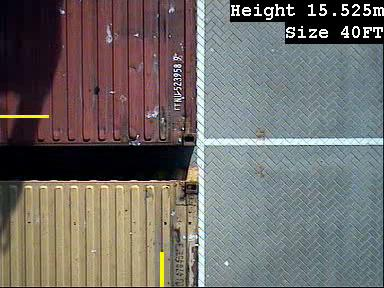groundmarker_2: (182, 188, 239, 229), (201, 1, 237, 48)
